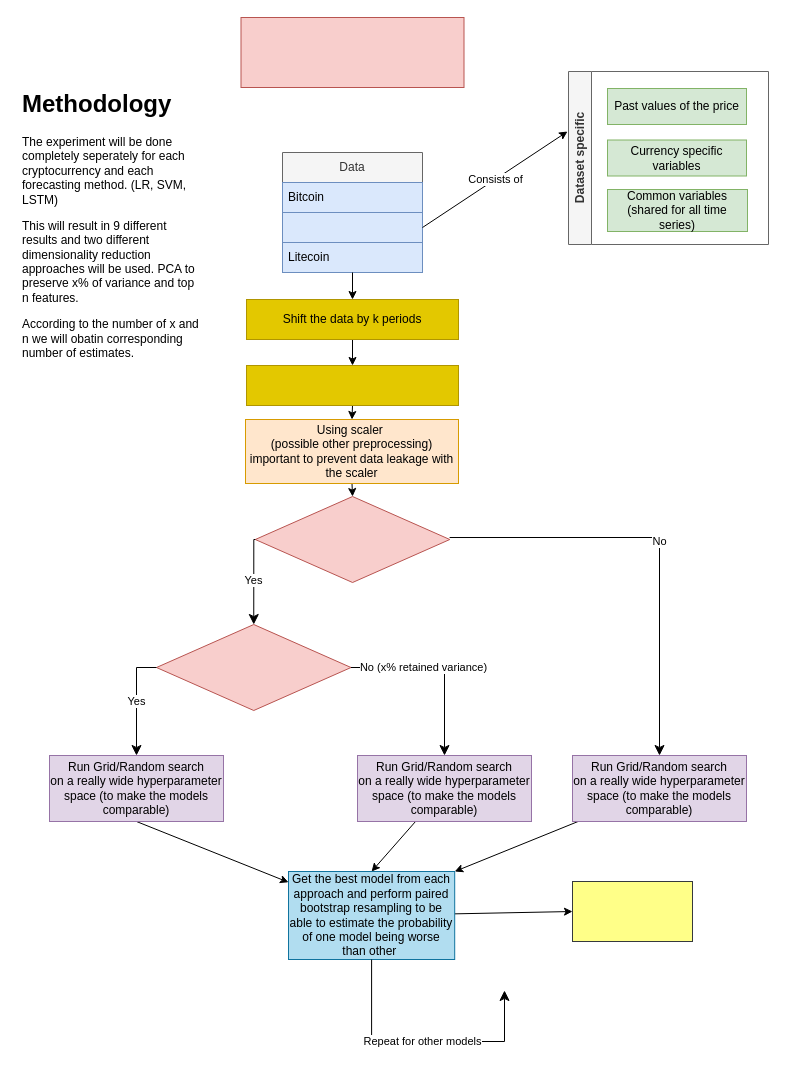
Some shapes in this 786 by 1069 pixel diagram are drawn without their labels. Each missing label, with the centre of its shape:
"Apply dimensionality reduction" belongs at point (352, 539).
"Ethereum" belongs at point (352, 227).
"Model specific pipeline => this whole process repeated for each model" belongs at point (352, 52).
"Report the estimated ratio and conclude which technique performed the best" belongs at point (632, 911).
"Split train,dev,test" belongs at point (352, 385).
"Top n principal components" belongs at point (253, 667).
